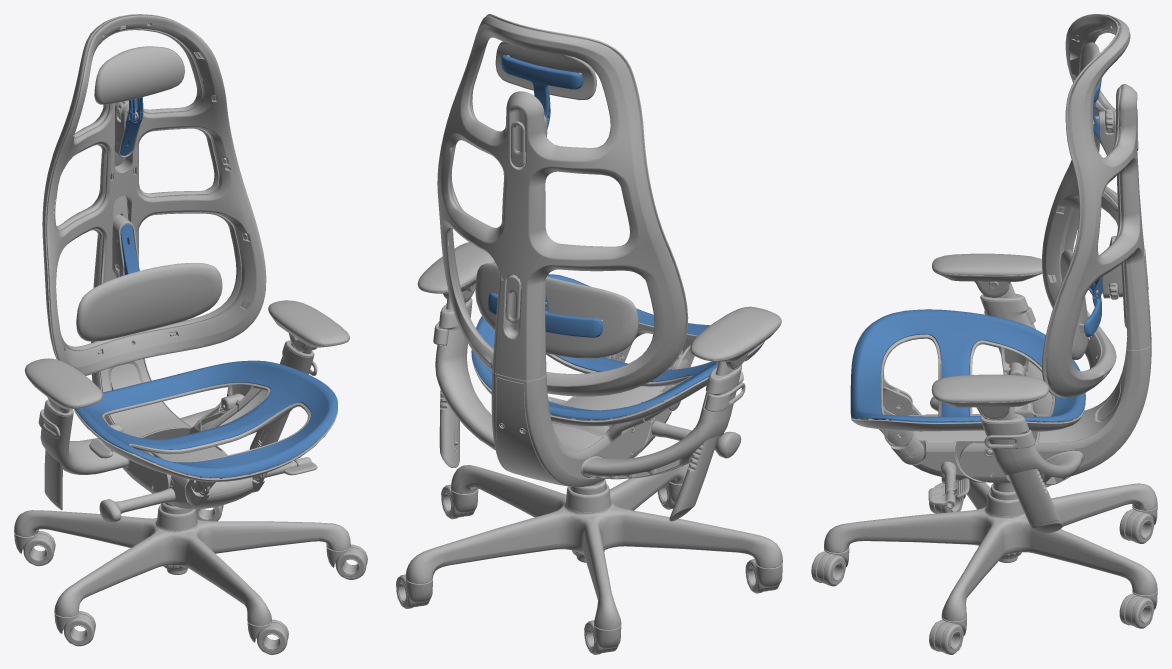
The model's file is chair_tarm_blue_v2.glb.
The picture shows the model from 3 angles, left to right: view 1: azimuth 30°, elevation 25°; view 2: azimuth 150°, elevation 25°; view 3: azimuth 270°, elevation 25°; orthographic projection. The views are drawn at different scales.
Visible parts, largest first — view 1: GRUPPO_SCHIENALE, 5S_BASE, SEDILE, Mesh_32, BRACCIOLI, BB-MECC_E_SEDILE, Mesh_37, ASSIEME_REGOLAZIONI_SCHIENALE, 4700954_PU.001, 4700954_PU; view 2: GRUPPO_SCHIENALE, 5S_BASE, BRACCIOLI, SEDILE, Mesh_32, ASSIEME_REGOLAZIONI_SCHIENALE, BB-MECC_E_SEDILE, 4700954_PU.001, Mesh_37, 4700954_PU; view 3: GRUPPO_SCHIENALE, 5S_BASE, SEDILE, BRACCIOLI, BB-MECC_E_SEDILE, 4700954_PU, ASSIEME_REGOLAZIONI_SCHIENALE, 4700954_PU.001, Mesh_32.
Part boxes in pixels (x1,y1,x2,y2): GRUPPO_SCHIENALE: (42, 14, 266, 493); 5S_BASE: (14, 502, 367, 654); SEDILE: (74, 360, 337, 492); Mesh_32: (76, 263, 222, 341); BRACCIOLI: (26, 312, 348, 510); BB-MECC_E_SEDILE: (99, 446, 317, 522); Mesh_37: (94, 46, 184, 104); ASSIEME_REGOLAZIONI_SCHIENALE: (112, 97, 143, 277); 4700954_PU.001: (24, 358, 102, 407); 4700954_PU: (268, 300, 349, 345); GRUPPO_SCHIENALE: (437, 14, 688, 487); 5S_BASE: (396, 463, 782, 654); BRACCIOLI: (418, 263, 780, 521); SEDILE: (471, 274, 764, 426); Mesh_32: (475, 263, 638, 358); ASSIEME_REGOLAZIONI_SCHIENALE: (488, 55, 602, 337); BB-MECC_E_SEDILE: (549, 355, 741, 458); 4700954_PU.001: (690, 306, 781, 360); Mesh_37: (495, 41, 596, 100); 4700954_PU: (417, 242, 495, 292); GRUPPO_SCHIENALE: (959, 14, 1151, 482); 5S_BASE: (811, 477, 1157, 654); SEDILE: (850, 309, 1085, 446); BRACCIOLI: (932, 269, 1083, 533); BB-MECC_E_SEDILE: (884, 397, 990, 508); 4700954_PU: (931, 374, 1048, 402); ASSIEME_REGOLAZIONI_SCHIENALE: (1084, 79, 1148, 336); 4700954_PU.001: (932, 253, 1042, 275); Mesh_32: (1060, 249, 1088, 360).
Bounding box in the file's own units: 0.7525 × 1.25 × 0.7114.
